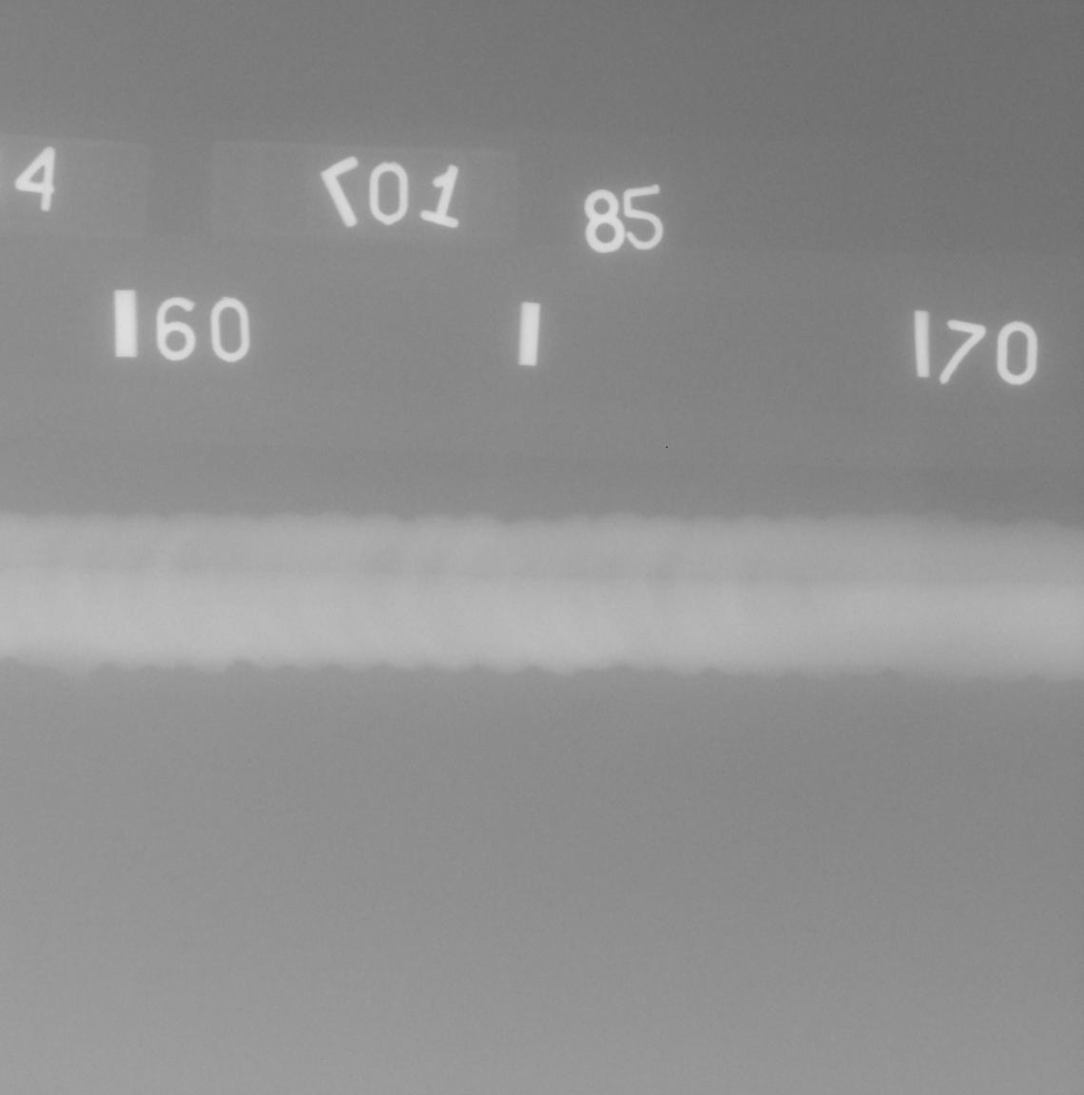Pore/Porosity: (646, 573, 651, 577)
